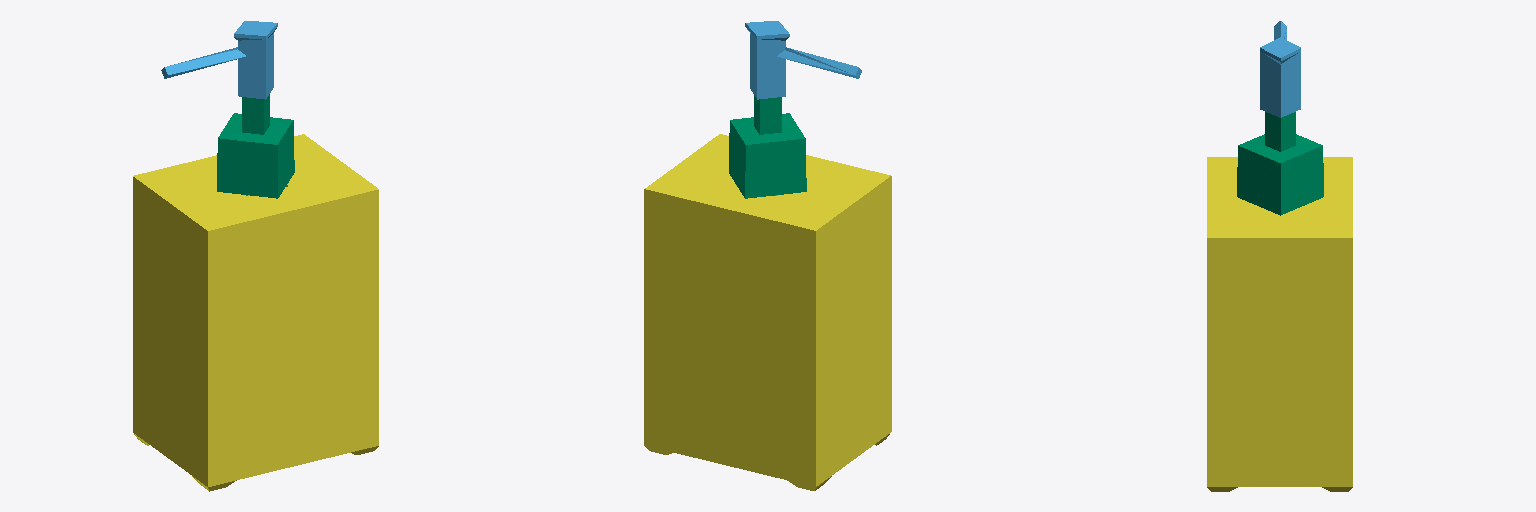
The robot description file, URDF, robot "partnet_8dc910d2-5ddc-46a7-9216-695dd51cd55b":
<?xml version="1.0" ?>
<robot name="partnet_8dc910d2-5ddc-46a7-9216-695dd51cd55b">
	<link name="base"/>
	<link name="link_0">
		<visual name="pressing_lid-4">
			<origin xyz="0.00011 0 0.005202499999999999"/>
			<geometry>
				<mesh filename="textured_objs/original-3.obj"/>
			</geometry>
		</visual>
		<visual name="pressing_lid-4">
			<origin xyz="0.00011 0 0.005202499999999999"/>
			<geometry>
				<mesh filename="textured_objs/original-9.obj"/>
			</geometry>
		</visual>
		<collision>
			<origin xyz="0.00011 0 0.005202499999999999"/>
			<geometry>
				<mesh filename="textured_objs/original-3.obj"/>
			</geometry>
		</collision>
		<collision>
			<origin xyz="0.00011 0 0.005202499999999999"/>
			<geometry>
				<mesh filename="textured_objs/original-9.obj"/>
			</geometry>
		</collision>
	</link>
	<joint name="joint_0" type="continuous">
		<origin xyz="0.0 0 0.0"/>
		<axis xyz="0 1 0"/>
		<child link="link_0"/>
		<parent link="link_0_helper"/>
	</joint>
	<link name="link_1">
		<visual name="head-6">
			<origin xyz="0 0 0"/>
			<geometry>
				<mesh filename="textured_objs/original-4.obj"/>
			</geometry>
		</visual>
		<visual name="head-6">
			<origin xyz="0 0 0"/>
			<geometry>
				<mesh filename="textured_objs/original-2.obj"/>
			</geometry>
		</visual>
		<collision>
			<origin xyz="0 0 0"/>
			<geometry>
				<mesh filename="textured_objs/original-4.obj"/>
			</geometry>
		</collision>
		<collision>
			<origin xyz="0 0 0"/>
			<geometry>
				<mesh filename="textured_objs/original-2.obj"/>
			</geometry>
		</collision>
	</link>
	<joint name="joint_1" type="continuous">
		<origin xyz="0 0 0"/>
		<axis xyz="0 1 0"/>
		<child link="link_1"/>
		<parent link="link_1_helper"/>
	</joint>
	<link name="link_2">
		<visual name="base_body-7">
			<origin xyz="0 0 0"/>
			<geometry>
				<mesh filename="textured_objs/original-8.obj"/>
			</geometry>
		</visual>
		<visual name="base_body-7">
			<origin xyz="0 0 0"/>
			<geometry>
				<mesh filename="textured_objs/original-5.obj"/>
			</geometry>
		</visual>
		<visual name="base_body-7">
			<origin xyz="0 0 0"/>
			<geometry>
				<mesh filename="textured_objs/original-6.obj"/>
			</geometry>
		</visual>
		<visual name="base_body-7">
			<origin xyz="0 0 0"/>
			<geometry>
				<mesh filename="textured_objs/original-7.obj"/>
			</geometry>
		</visual>
		<visual name="base_body-7">
			<origin xyz="0 0 0"/>
			<geometry>
				<mesh filename="textured_objs/original-1.obj"/>
			</geometry>
		</visual>
		<collision>
			<origin xyz="0 0 0"/>
			<geometry>
				<mesh filename="textured_objs/original-8.obj"/>
			</geometry>
		</collision>
		<collision>
			<origin xyz="0 0 0"/>
			<geometry>
				<mesh filename="textured_objs/original-5.obj"/>
			</geometry>
		</collision>
		<collision>
			<origin xyz="0 0 0"/>
			<geometry>
				<mesh filename="textured_objs/original-6.obj"/>
			</geometry>
		</collision>
		<collision>
			<origin xyz="0 0 0"/>
			<geometry>
				<mesh filename="textured_objs/original-7.obj"/>
			</geometry>
		</collision>
		<collision>
			<origin xyz="0 0 0"/>
			<geometry>
				<mesh filename="textured_objs/original-1.obj"/>
			</geometry>
		</collision>
	</link>
	<joint name="joint_2" type="fixed">
		<origin rpy="1.570796326794897 0 -1.570796326794897" xyz="0 0 0"/>
		<child link="link_2"/>
		<parent link="base"/>
	</joint>
	<link name="link_0_helper"/>
	<joint name="joint_3" type="prismatic">
		<origin xyz="-0.00011 0 -0.005202499999999999"/>
		<axis xyz="0 -1 0"/>
		<child link="link_0_helper"/>
		<parent link="link_1"/>
		<limit lower="0" upper="0.14"/>
	</joint>
	<link name="link_1_helper"/>
	<joint name="joint_4" type="prismatic">
		<origin xyz="0 0 0"/>
		<axis xyz="0 1 0"/>
		<child link="link_1_helper"/>
		<parent link="link_2"/>
		<limit lower="0" upper="0.1160000000000001"/>
	</joint>
</robot>

--- Render facts (derived) ---
3 views of the same robot in one strip: view 1: azimuth 30°, elevation 25°; view 2: azimuth 150°, elevation 25°; view 3: azimuth 270°, elevation 25° (orthographic).
Model partnet_8dc910d2-5ddc-46a7-9216-695dd51cd55b with 6 links and 5 joints (2 continuous, 2 prismatic, 1 fixed), rooted at base, posed all joints at 0.
Visible links, largest first — view 1: link_2, link_1, link_0; view 2: link_2, link_1, link_0; view 3: link_2, link_1, link_0.
Link boxes in pixels (bbox=[...]): link_2: bbox=[133, 134, 378, 491]; link_1: bbox=[217, 94, 294, 198]; link_0: bbox=[161, 21, 277, 99]; link_2: bbox=[644, 134, 891, 490]; link_1: bbox=[729, 95, 806, 198]; link_0: bbox=[745, 21, 861, 99]; link_2: bbox=[1207, 157, 1352, 491]; link_1: bbox=[1237, 112, 1323, 215]; link_0: bbox=[1260, 21, 1300, 117].
Bounding box of the posed robot: 0.7401 × 0.5468 × 1.67 m (x, y, z).
9 mesh visuals loaded from 9 distinct referenced files (9 OBJ).